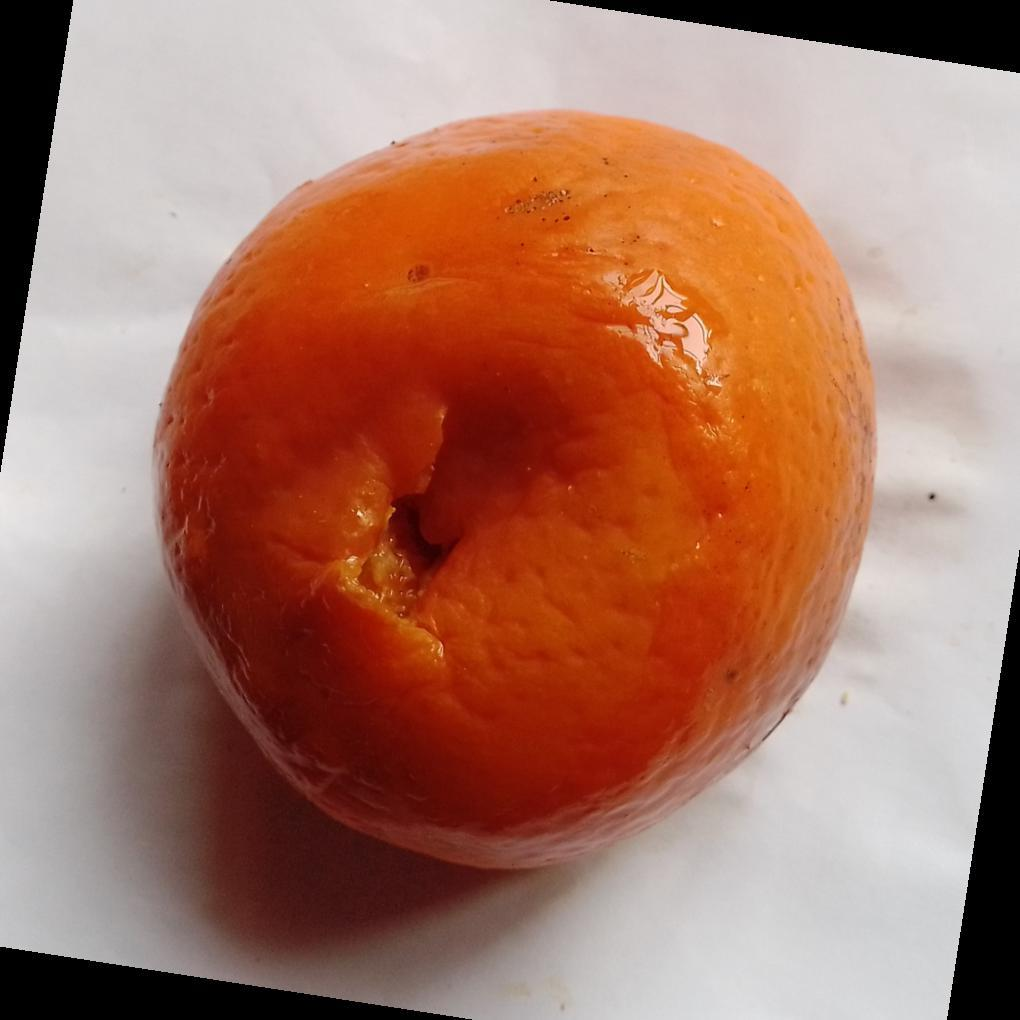FreshOrange: (150, 110, 877, 876)
